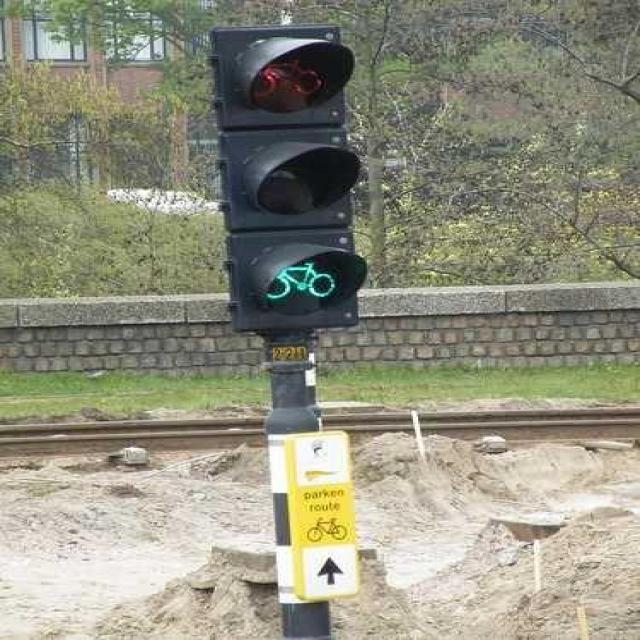Traffic Light -Green-: (215, 33, 367, 348)
